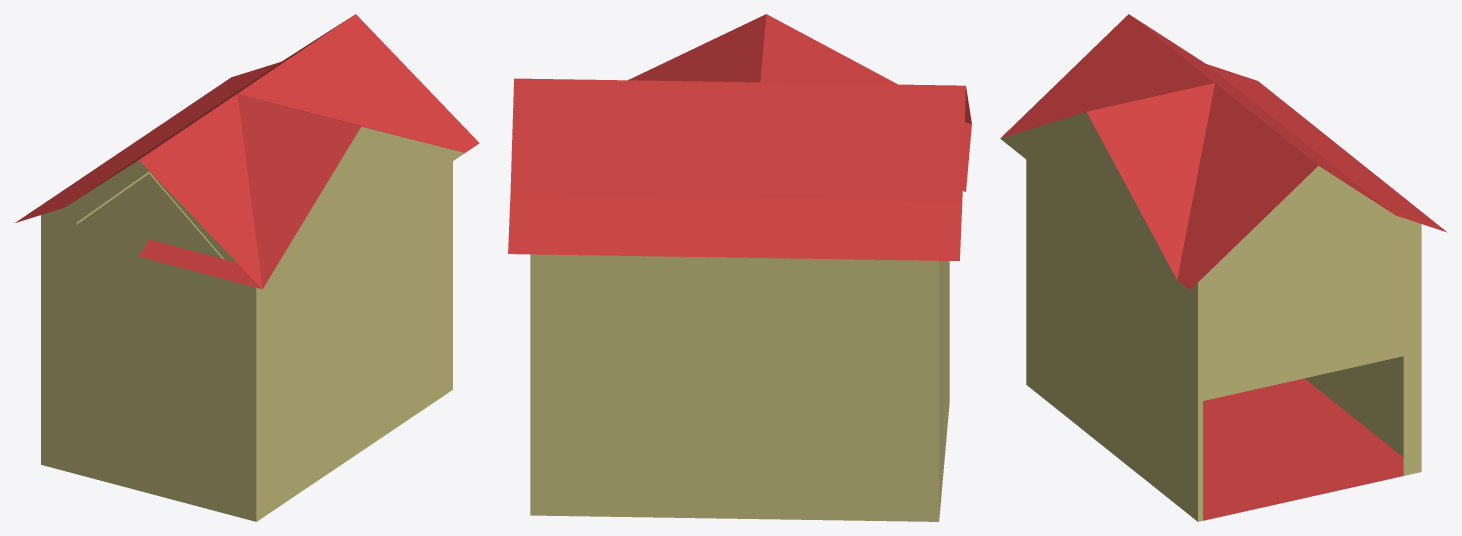
3 views of the same model, side by side, from view 1: azimuth 30°, elevation 25°; view 2: azimuth 150°, elevation 25°; view 3: azimuth 270°, elevation 25° (orthographic). The views are drawn at different scales.
Bounding box in the file's own units: 19.18 × 17.33 × 14.46.
